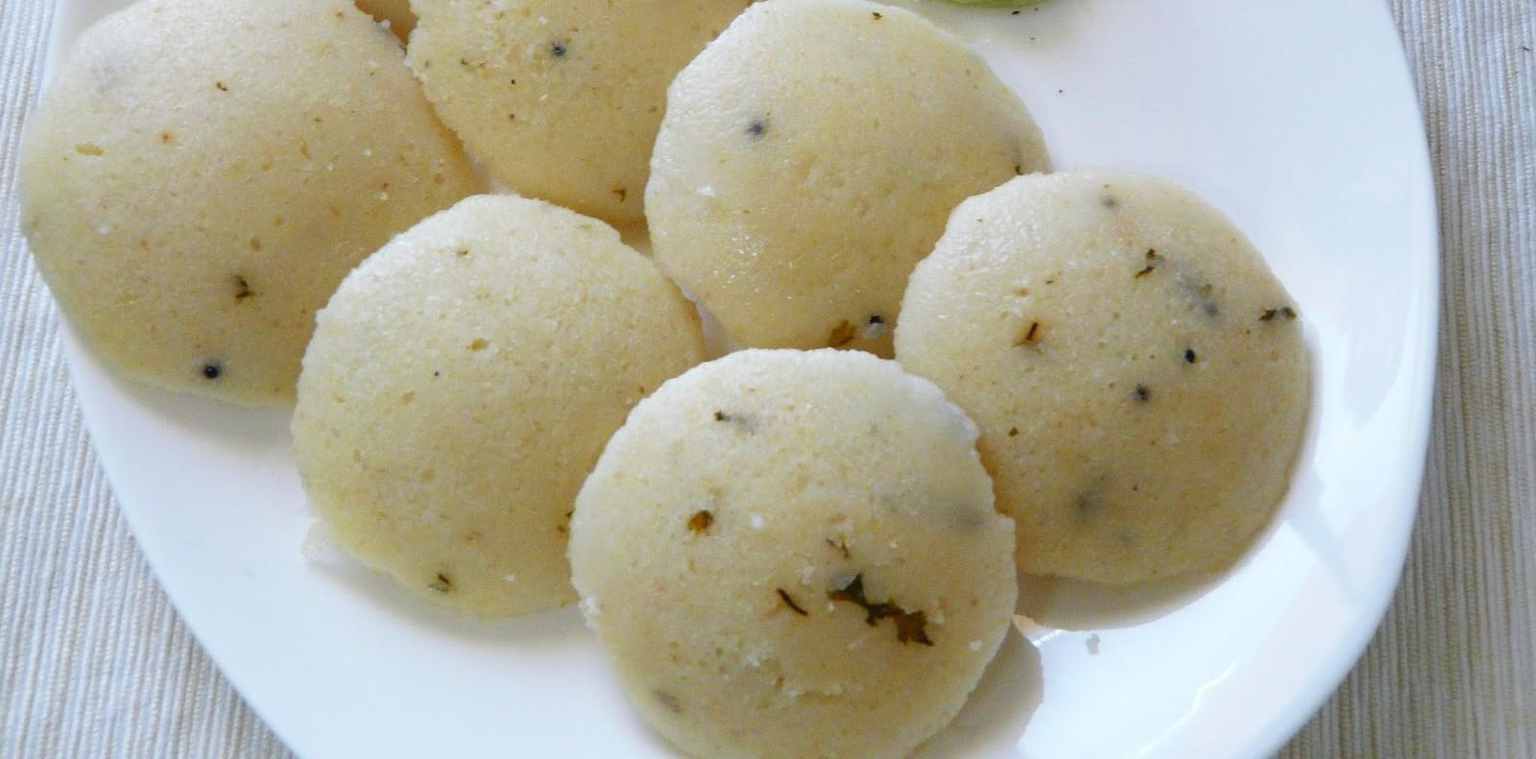Idli: (24, 0, 481, 404), (569, 352, 1019, 759), (290, 196, 705, 617), (894, 174, 1312, 590), (643, 4, 1057, 347), (402, 0, 762, 225)
